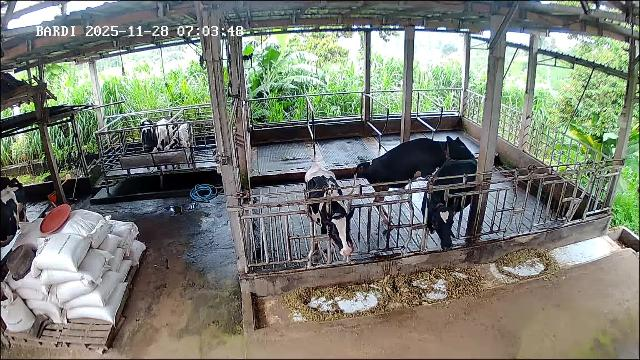mounting: (362, 136, 476, 230)
